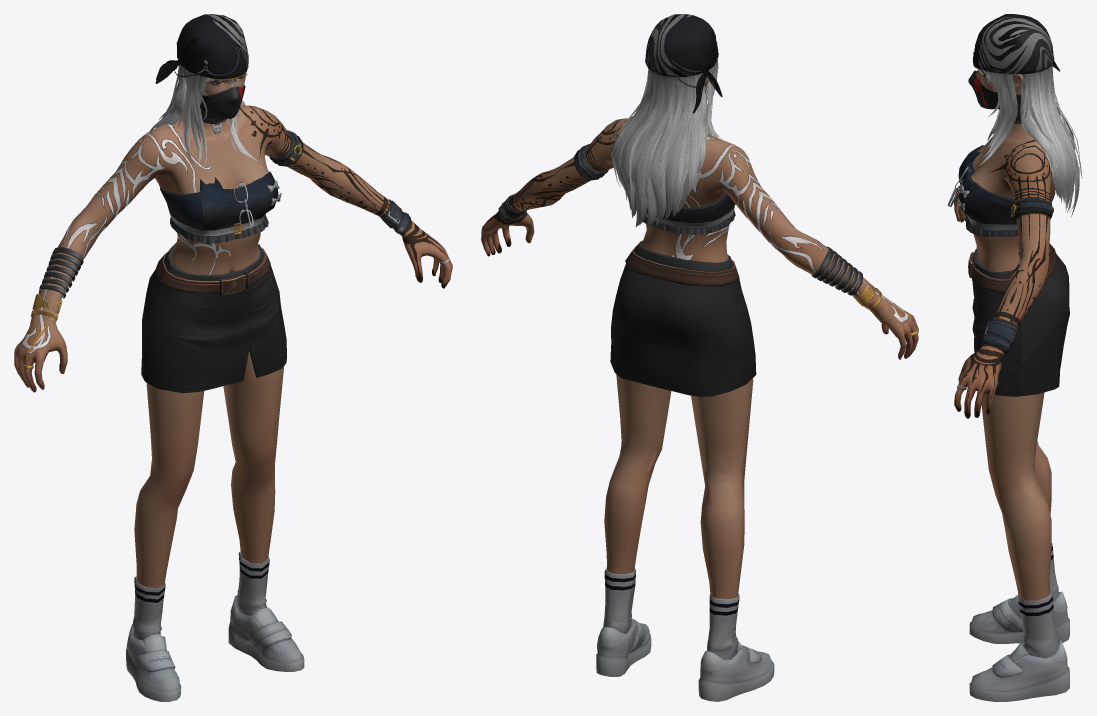
File: rosa.glb
3 renders of one model, left to right at view 1: azimuth 30°, elevation 25°; view 2: azimuth 150°, elevation 25°; view 3: azimuth 270°, elevation 25°, orthographic.
Parts seen in each view (by area): view 1: rosa; view 2: rosa; view 3: rosa.
Boxes of the visible parts, left/top/right/bottom form: rosa: left=14, top=14, right=452, bottom=701; rosa: left=481, top=14, right=918, bottom=701; rosa: left=947, top=14, right=1082, bottom=701.
Bounding box in the file's own units: 0.6054 × 0.8839 × 0.1669.
9 materials, 9 textured.
